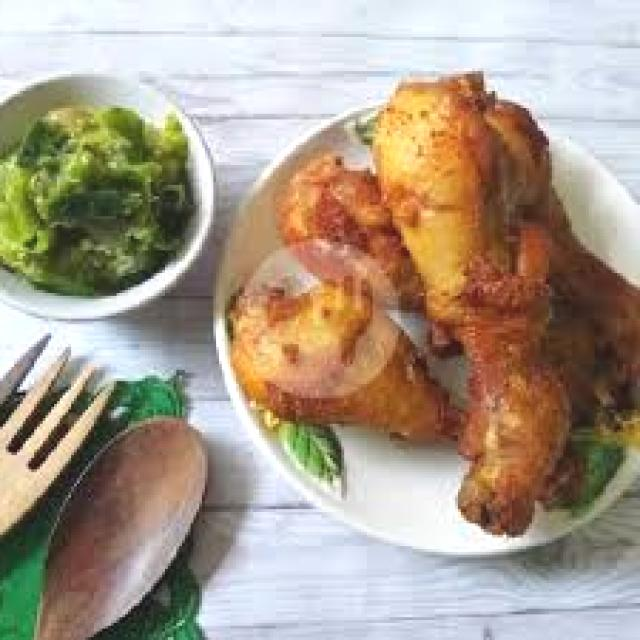ayam goreng: (373, 74, 640, 538)
